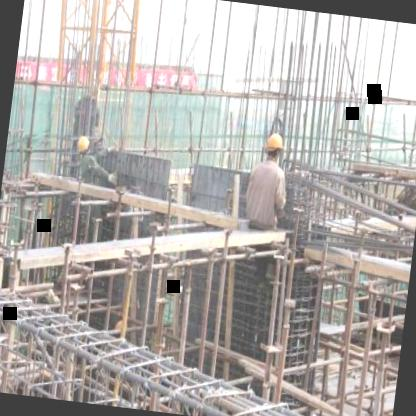helmet: (264, 128, 286, 165), (74, 131, 92, 163)
